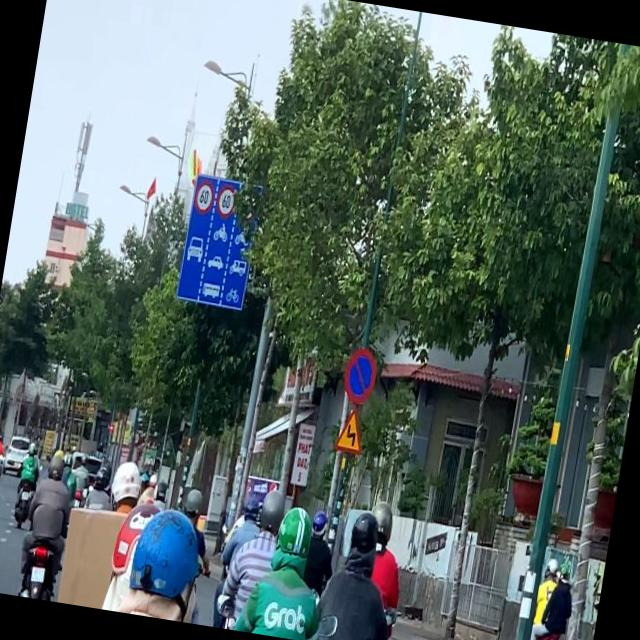P-131a: (342, 348, 378, 406)
W-202a: (334, 403, 370, 458)
